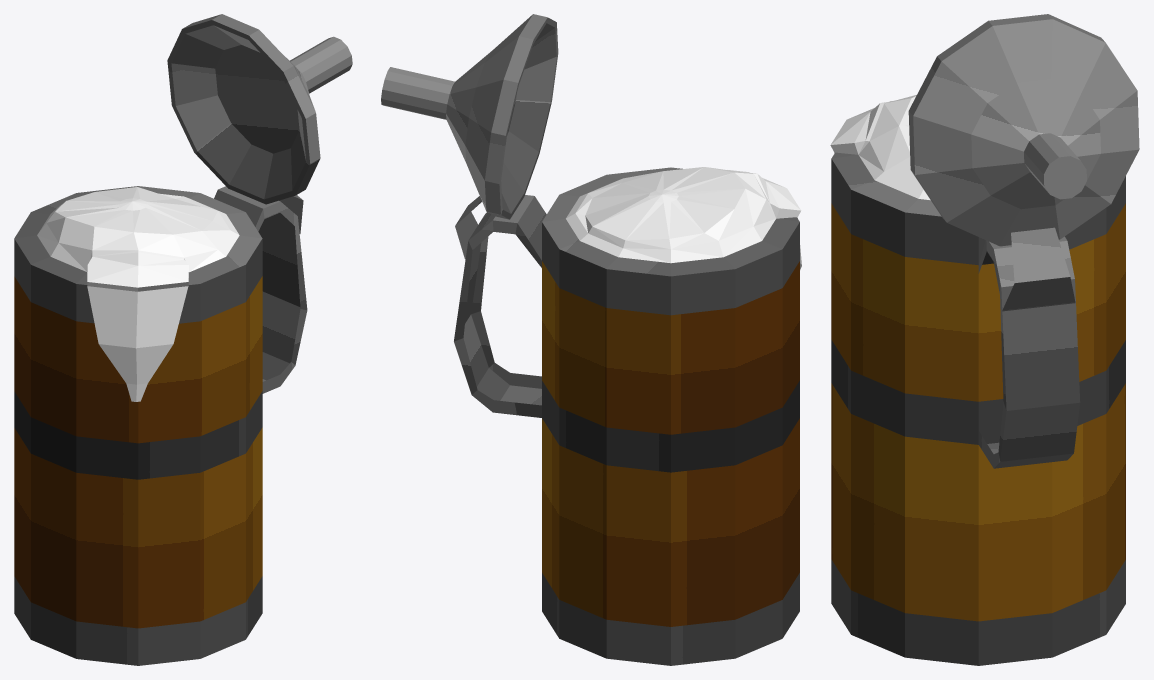
The model's file is bottle_616x14.gltf.
3 renders of one model, left to right at view 1: azimuth 30°, elevation 25°; view 2: azimuth 150°, elevation 25°; view 3: azimuth 270°, elevation 25°, orthographic. The views are drawn at different scales.
Visible parts, largest first — view 1: bottle_616x14; view 2: bottle_616x14; view 3: bottle_616x14.
Part boxes in pixels (x1,y1,x2,y2): bottle_616x14: [14, 14, 352, 665]; bottle_616x14: [381, 14, 801, 665]; bottle_616x14: [830, 14, 1139, 665].
Bounding box in the file's own units: 0.9751 × 1.46 × 0.6293.
Materials: 1 (1 with a texture image).
